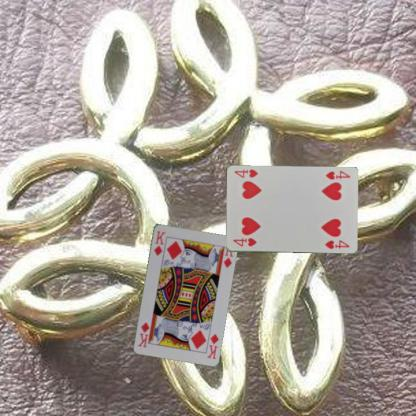4h: (323, 168, 351, 182), (230, 236, 258, 248)
Kd: (205, 331, 220, 360), (152, 228, 166, 257)
